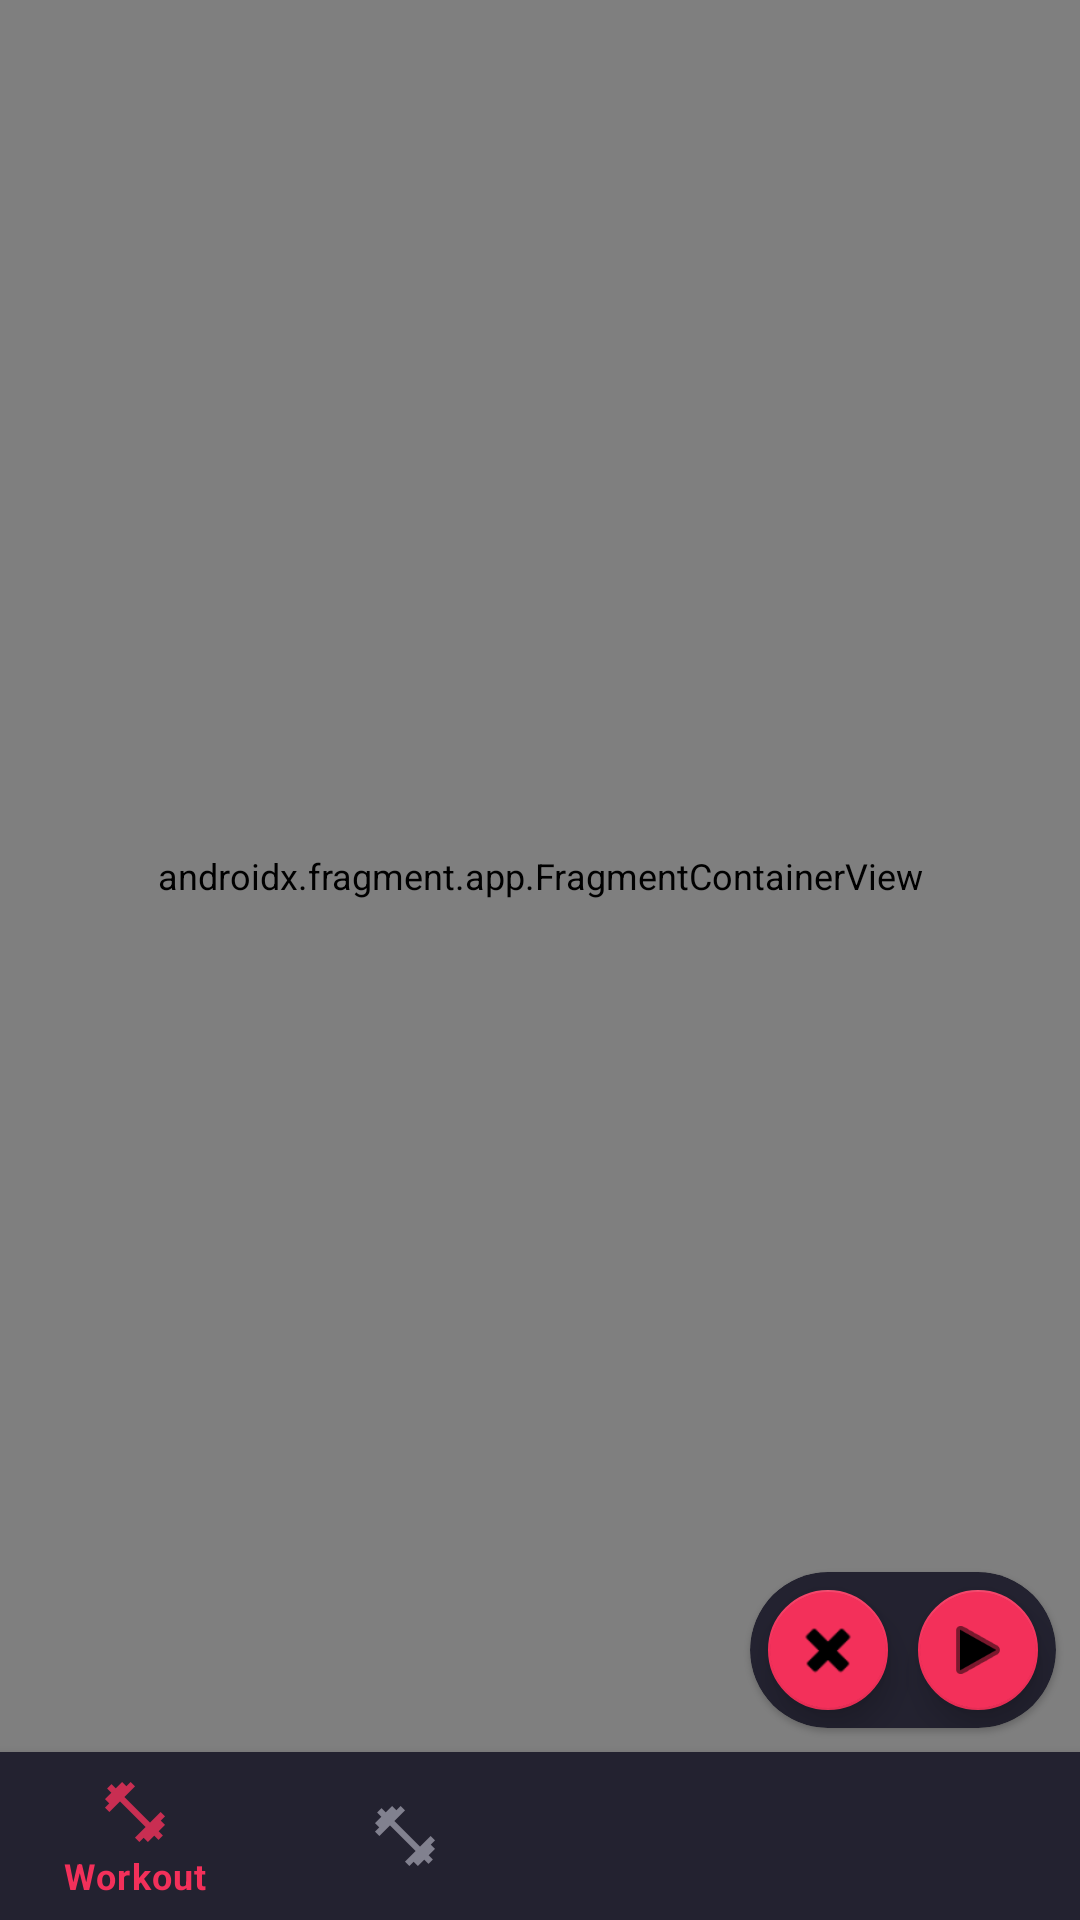

Named icons in this screenshot (1080px×1920px) and their bounding boxes, (x1, y1, x2, y2):
delete: (768, 1590, 888, 1710)
play: (918, 1590, 1038, 1710)
